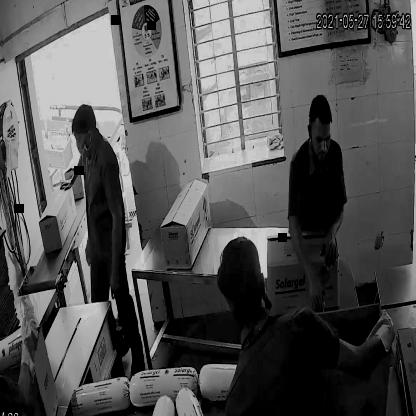no_goggles: (308, 128, 335, 149), (72, 130, 94, 147)
